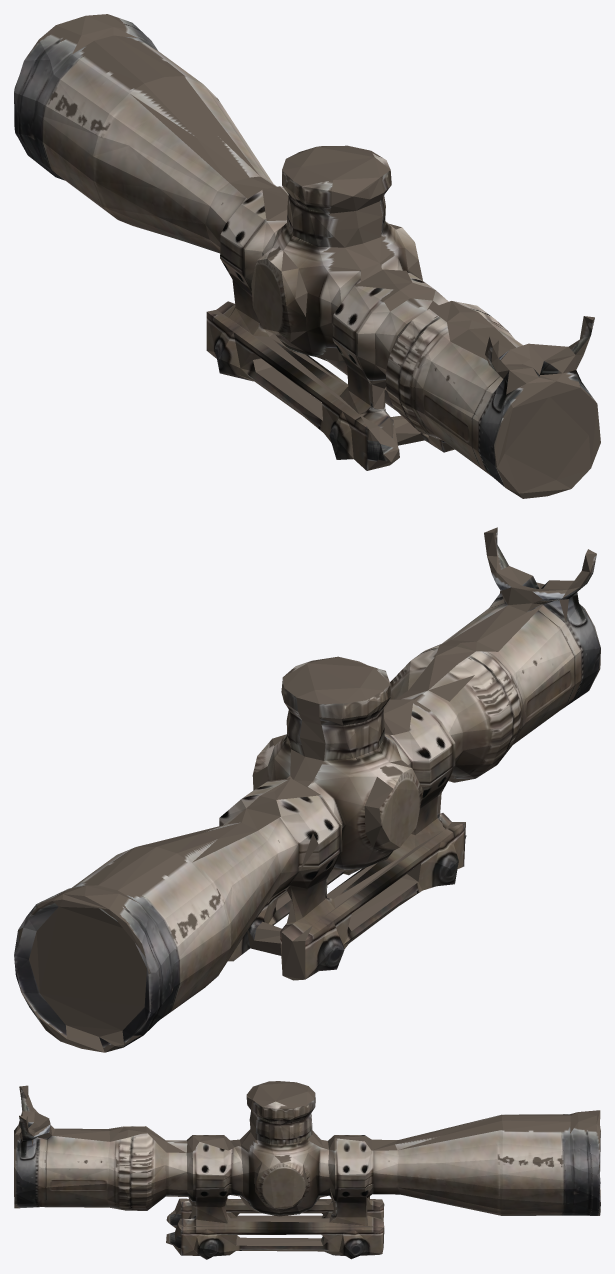
Rendered from scope8x.glb.
3 views of the same model, one above another, from view 1: azimuth 30°, elevation 25°; view 2: azimuth 150°, elevation 25°; view 3: azimuth 270°, elevation 25° (orthographic). The views are drawn at different scales.
Visible parts, largest first — view 1: Mesh_0; view 2: Mesh_0; view 3: Mesh_0.
Part boxes in pixels (x1,y1,x2,y2): Mesh_0: [14, 14, 600, 498]; Mesh_0: [14, 527, 600, 1052]; Mesh_0: [14, 1081, 600, 1259].
Size of the model in its own units: 0.0698 by 0.1136 by 0.4.
Materials: 1 (1 with a texture image).
